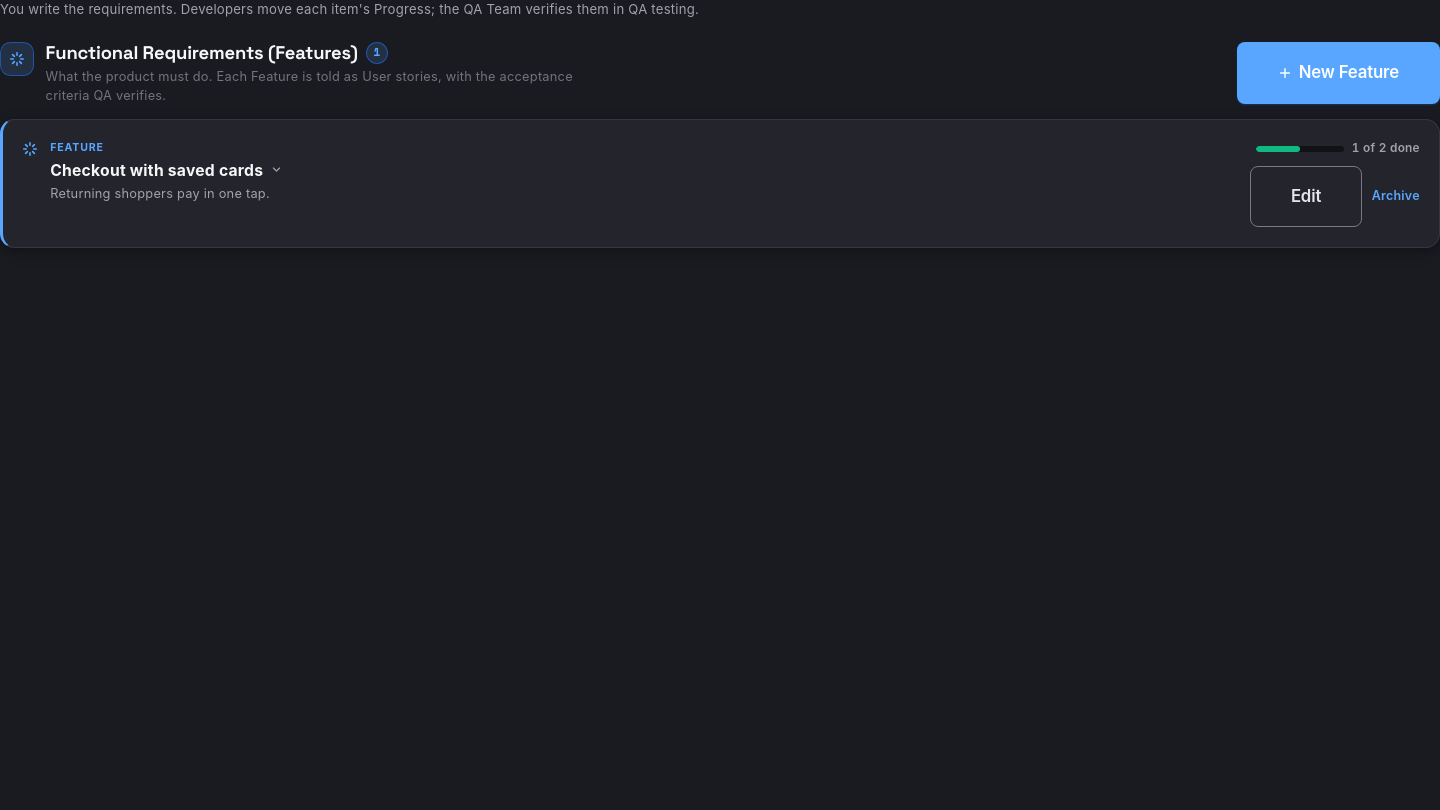
Scenario: ProjectRequirementsPanel › New Feature: a side list of Features beside an editor › keeps the single form for an edit
The width and height of the screenshot is (1440, 810).
Click the button "Edit" at (1306, 197), box [1250,166,1362,227]
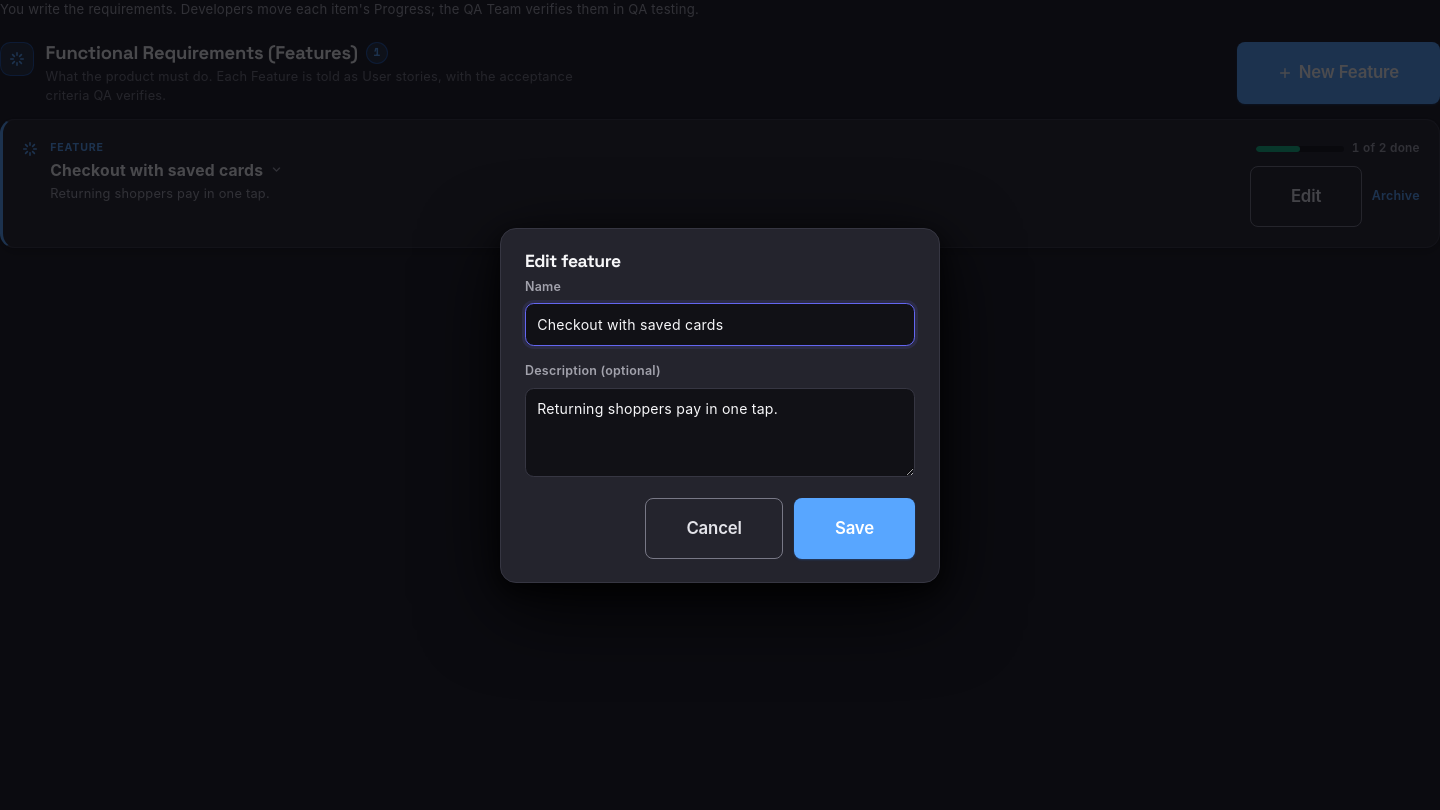
Expected: the submit button reads "Save", [794,497,915,559]
